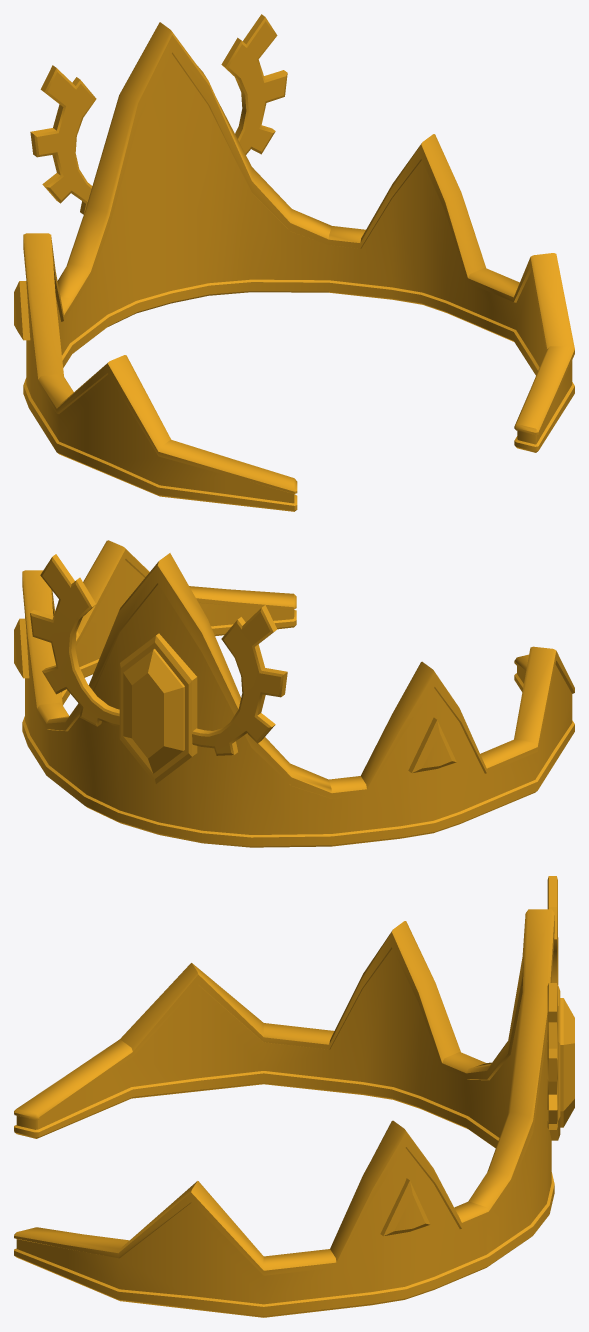
The model's file is CrownPiecesV3.fbx.
3 renders of one model, top to bottom at view 1: azimuth 30°, elevation 25°; view 2: azimuth 150°, elevation 25°; view 3: azimuth 270°, elevation 25°, orthographic. The views are drawn at different scales.
Parts seen in each view (by area): view 1: CrownPiece2, CrownPiece1, CrownPiece3, CrownPiece4; view 2: CrownPiece2, CrownPiece3, CrownPiece4, CrownPiece1; view 3: CrownPiece1, CrownPiece3, CrownPiece2, CrownPiece4.
Boxes of the visible parts, x1,y1,x2,y2 form: CrownPiece2: (57,22,331,353); CrownPiece1: (329,134,574,452); CrownPiece3: (14,233,297,511); CrownPiece4: (30,14,287,214); CrownPiece2: (46,553,331,847); CrownPiece3: (329,646,574,846); CrownPiece4: (30,554,287,783); CrownPiece1: (14,540,296,774); CrownPiece1: (14,1120,488,1317); CrownPiece3: (14,921,485,1138); CrownPiece2: (466,909,554,1266); CrownPiece4: (547,876,574,1140).
Bounding box in the file's own units: 200 × 109 × 193.
